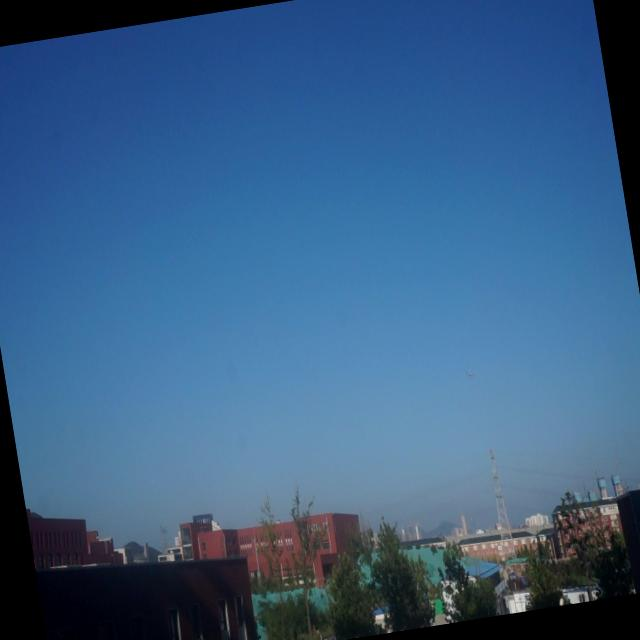drone: (464, 366, 476, 384)
